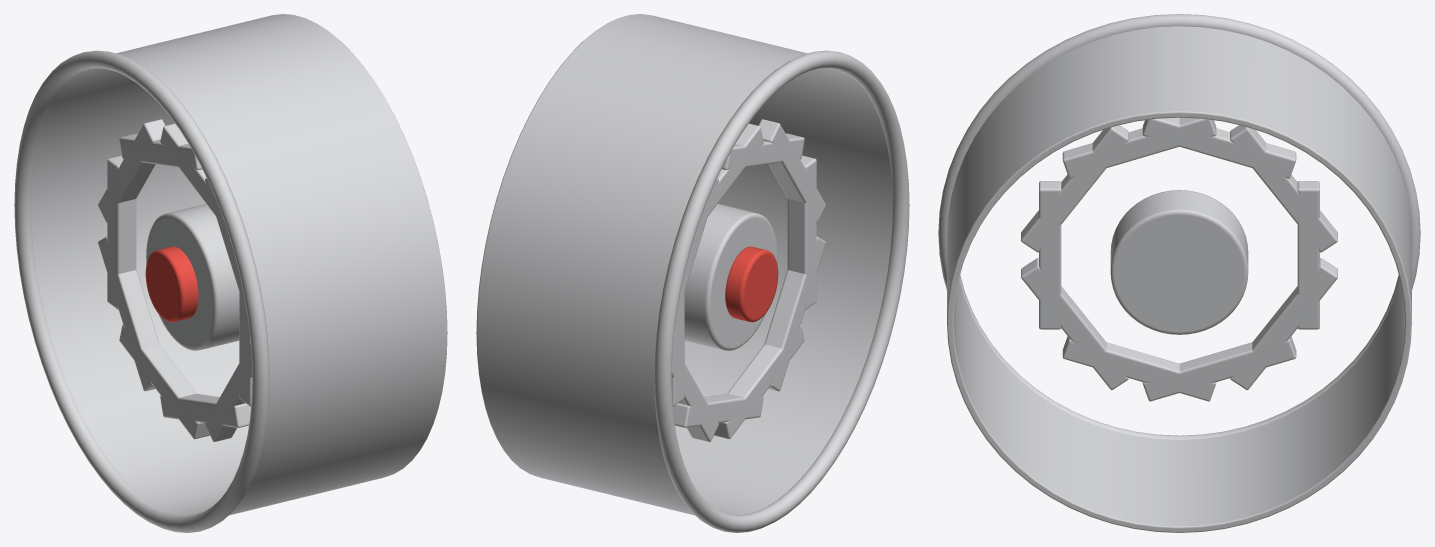
The model's file is wheel_rim_fr.glb.
The picture shows the model from 3 angles, left to right: view 1: azimuth 30°, elevation 25°; view 2: azimuth 150°, elevation 25°; view 3: azimuth 270°, elevation 25°; orthographic projection. The views are drawn at different scales.
Parts seen in each view (by area): view 1: RIM_BARREL_FR, RIM_LIP_FR, RIM_HUB_FR, CENTERLOCK_FR, SPOKE_FR_0, SPOKE_FR_9, SPOKE_FR_8, SPOKE_FR_1, SPOKE_FR_7, SPOKE_FR_6, SPOKE_FR_2, SPOKE_FR_3 (+2 smaller); view 2: RIM_BARREL_FR, RIM_LIP_FR, RIM_HUB_FR, CENTERLOCK_FR, SPOKE_FR_6, SPOKE_FR_5, SPOKE_FR_7, SPOKE_FR_4, SPOKE_FR_8, SPOKE_FR_2, SPOKE_FR_3, SPOKE_FR_9 (+2 smaller); view 3: RIM_BARREL_FR, RIM_HUB_FR, RIM_LIP_FR, SPOKE_FR_8, SPOKE_FR_2, SPOKE_FR_9, SPOKE_FR_6, SPOKE_FR_7, SPOKE_FR_5, SPOKE_FR_0, SPOKE_FR_4, SPOKE_FR_3 (+1 smaller).
Part boxes in pixels (x1,y1,x2,y2): RIM_BARREL_FR: (31, 14, 447, 515); RIM_LIP_FR: (14, 50, 269, 532); RIM_HUB_FR: (146, 204, 239, 350); CENTERLOCK_FR: (145, 246, 198, 322); SPOKE_FR_0: (107, 155, 136, 309); SPOKE_FR_9: (98, 236, 159, 391); SPOKE_FR_8: (119, 324, 209, 439); SPOKE_FR_1: (98, 119, 165, 222); SPOKE_FR_7: (160, 393, 250, 427); SPOKE_FR_6: (205, 344, 252, 441); SPOKE_FR_2: (119, 133, 201, 170); SPOKE_FR_3: (160, 123, 226, 229); RIM_BARREL_FR: (476, 14, 892, 515); RIM_LIP_FR: (654, 50, 909, 532); RIM_HUB_FR: (684, 204, 777, 350); CENTERLOCK_FR: (725, 246, 778, 322); SPOKE_FR_6: (764, 236, 825, 391); SPOKE_FR_5: (787, 155, 816, 309); SPOKE_FR_7: (714, 324, 804, 439); SPOKE_FR_4: (758, 119, 825, 222); SPOKE_FR_8: (673, 393, 763, 427); SPOKE_FR_2: (699, 123, 763, 224); SPOKE_FR_3: (722, 133, 804, 170); SPOKE_FR_9: (671, 344, 718, 441); RIM_BARREL_FR: (947, 26, 1411, 532); RIM_HUB_FR: (1110, 190, 1248, 334); RIM_LIP_FR: (938, 14, 1420, 439); SPOKE_FR_8: (1142, 336, 1296, 401); SPOKE_FR_2: (1142, 117, 1296, 178); SPOKE_FR_9: (1230, 258, 1337, 390); SPOKE_FR_6: (1021, 258, 1128, 390); SPOKE_FR_7: (1062, 336, 1216, 401); SPOKE_FR_5: (1039, 181, 1061, 329); SPOKE_FR_0: (1297, 181, 1319, 329); SPOKE_FR_4: (1021, 125, 1128, 252); SPOKE_FR_3: (1062, 117, 1216, 178).
Bounding box in the file's own units: 0.255 × 0.56 × 0.56.
